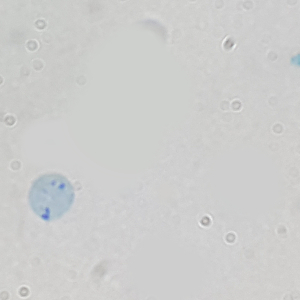aggregate reticulocyte: (27, 171, 77, 223)
